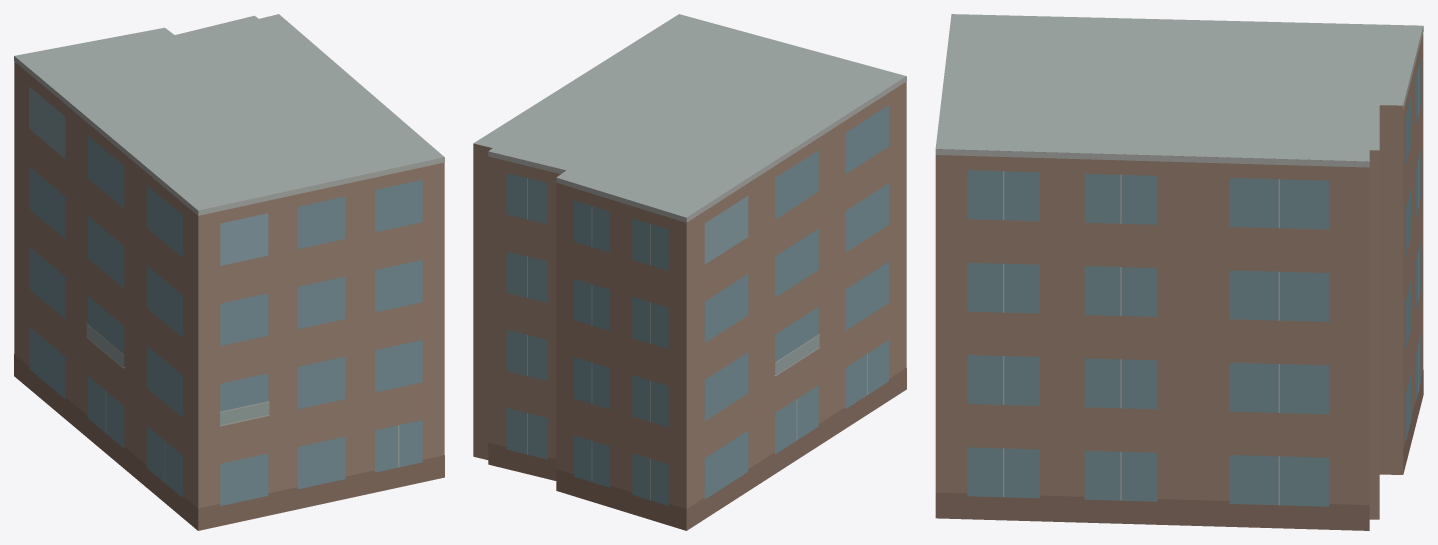
The model's file is survey-upis-32477054.glb.
3 renders of one model, left to right at view 1: azimuth 30°, elevation 25°; view 2: azimuth 150°, elevation 25°; view 3: azimuth 270°, elevation 25°, orthographic. The views are drawn at different scales.
Visible parts, largest first — view 1: survey-upis-32477054.tmp; view 2: survey-upis-32477054.tmp; view 3: survey-upis-32477054.tmp.
Boxes of the visible parts, x1,y1,x2,y2 form: survey-upis-32477054.tmp: (14, 14, 444, 530); survey-upis-32477054.tmp: (473, 14, 906, 530); survey-upis-32477054.tmp: (935, 14, 1423, 530).
Size of the model in its own units: 12.77 by 14.9 by 17.85.
